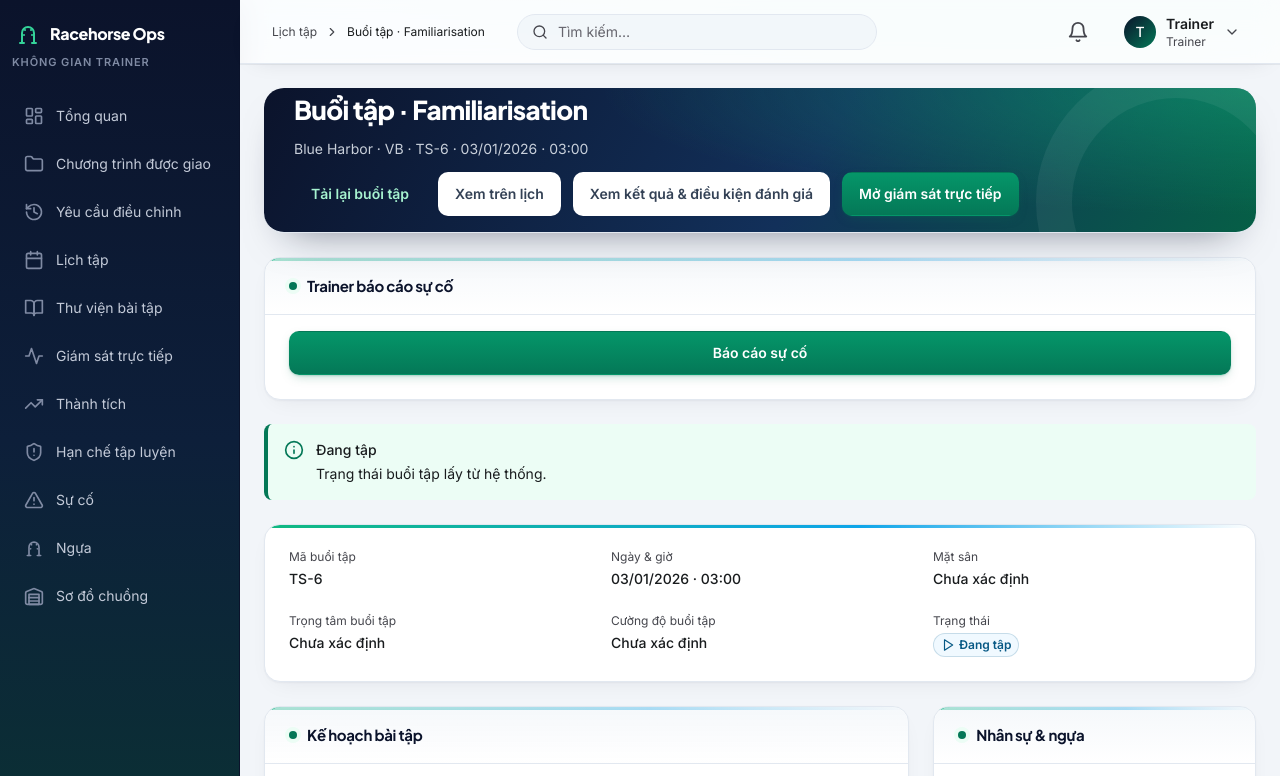
Test case: lets a Trainer open Report Incident for IN_PROGRESS sessions
The image size is (1280, 776).
Click the button "Báo cáo sự cố" at {"x": 760, "y": 353}, box x1=289 y1=331 x2=1231 y2=375
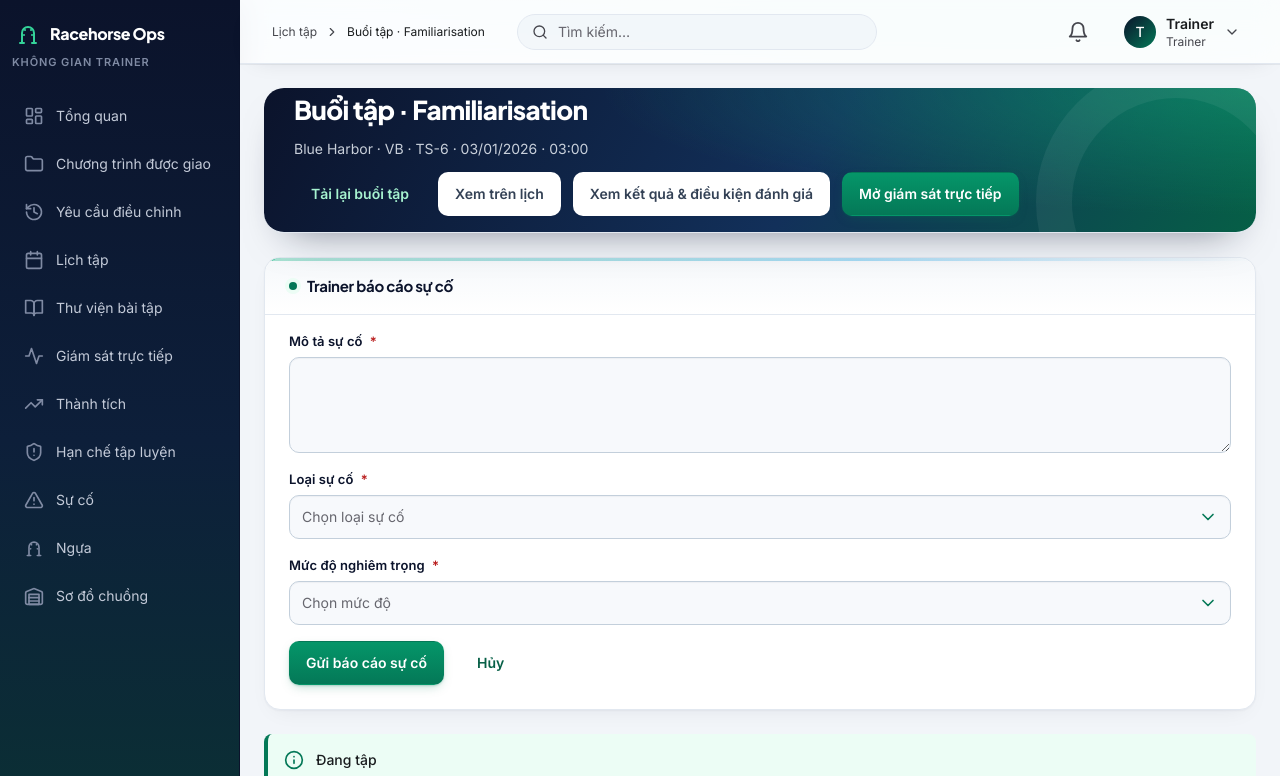
Expected: the form "báo cáo sự cố" is shown, x1=289 y1=331 x2=1231 y2=685
Expected: the text box labelled "Mô tả sự cố" is shown, x1=289 y1=357 x2=1231 y2=453
Expected: the dropdown labelled "Loại sự cố" is shown, x1=290 y1=496 x2=1230 y2=538
